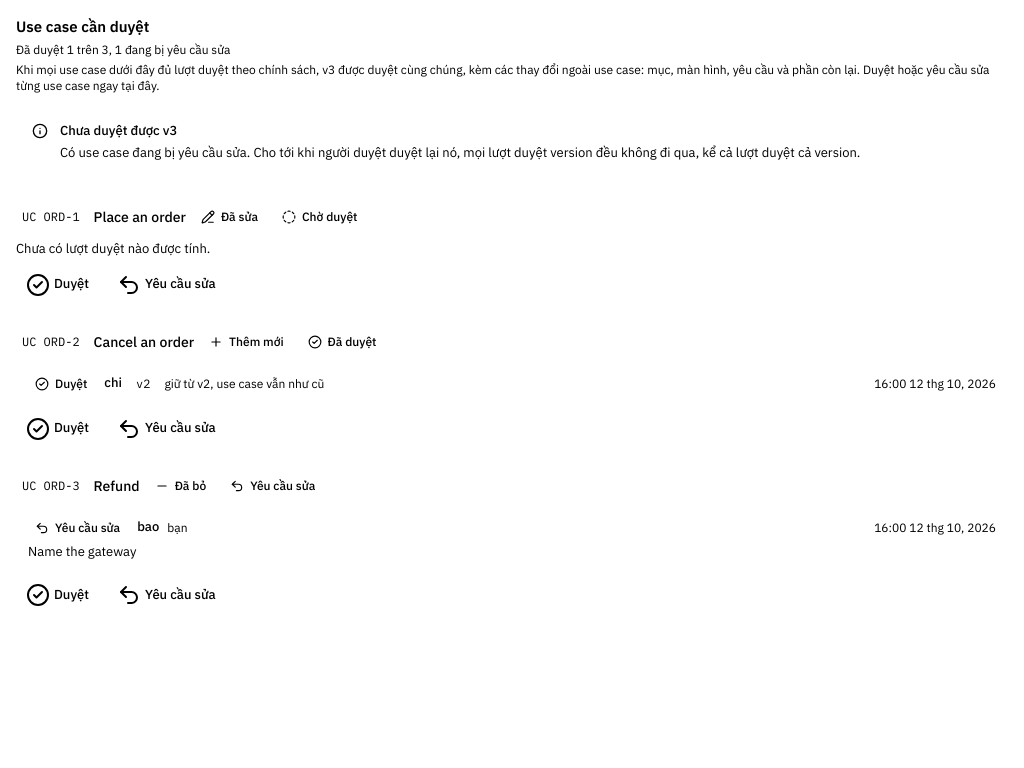
Test case: UseCaseReviews › shows the hub's refusal under the use case
Click the button with test id "srs-case-approve" at (58, 285), box [16,271,99,299]
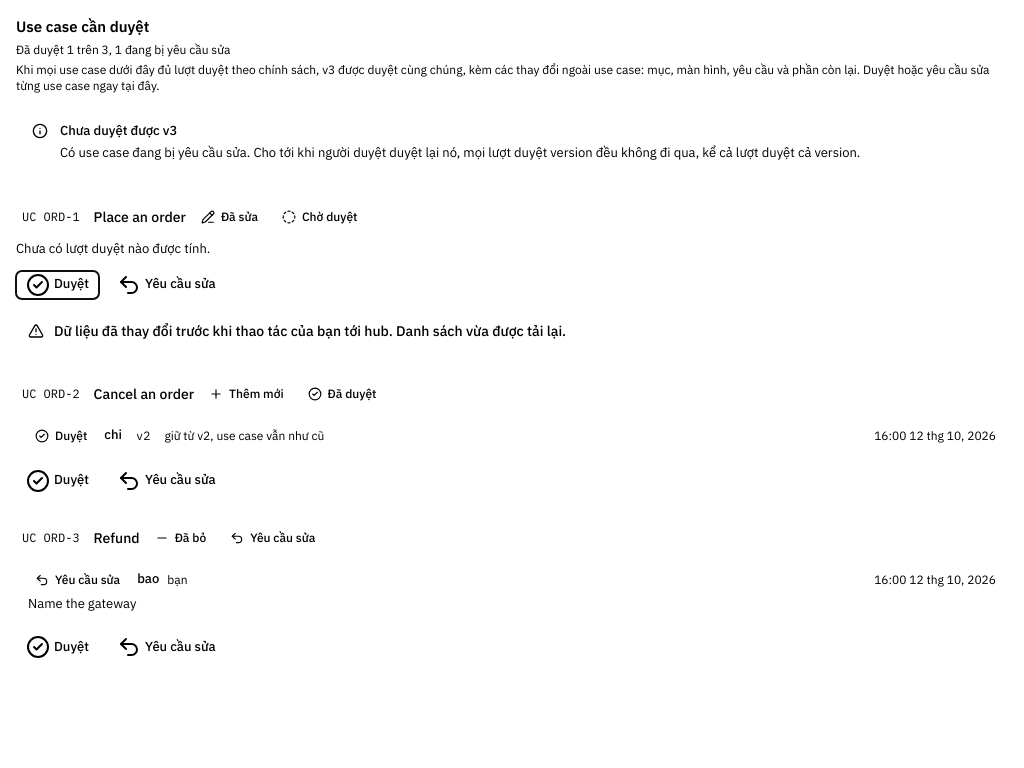
Expected: the message is shown, [28,322,566,340]
